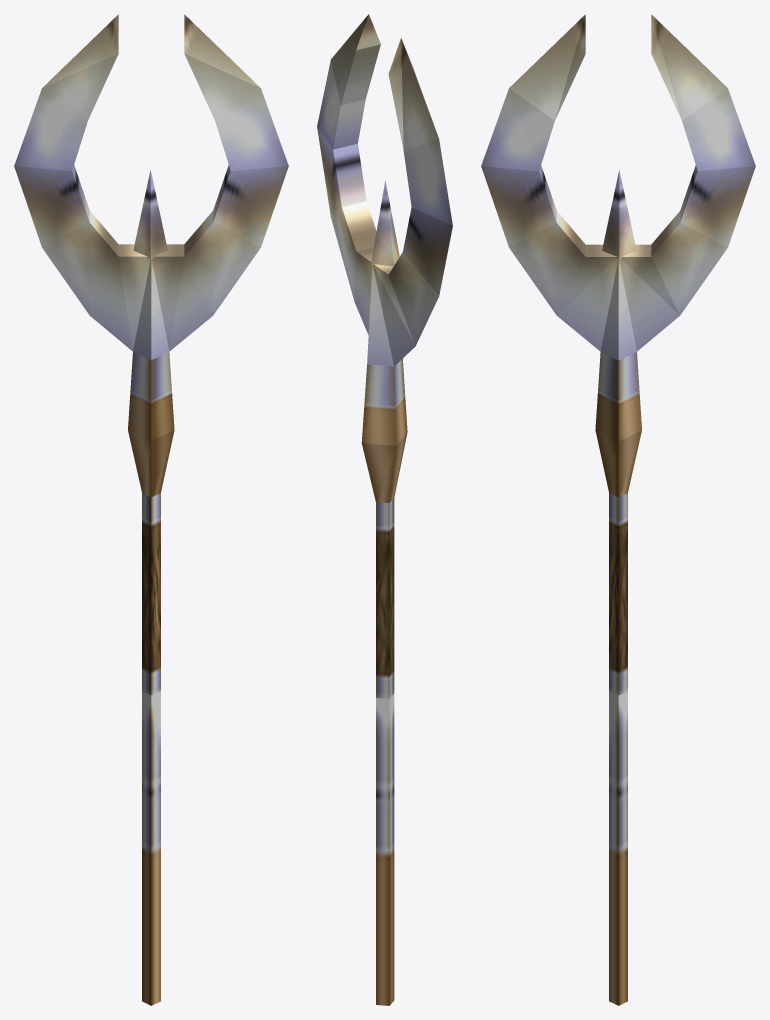
Rendered from longarm03.obj.
3 renders of one model, left to right at view 1: azimuth 90°, elevation 25°; view 2: azimuth 210°, elevation 25°; view 3: azimuth 270°, elevation 25°, orthographic.
Parts seen in each view (by area): view 1: longarm03; view 2: longarm03; view 3: longarm03.
Boxes of the visible parts, x1,y1,x2,y2 form: longarm03: [14, 14, 288, 1005]; longarm03: [317, 14, 452, 1005]; longarm03: [481, 14, 755, 1005].
Bounding box in the file's own units: 0.1175 × 2.39 × 0.6037.
